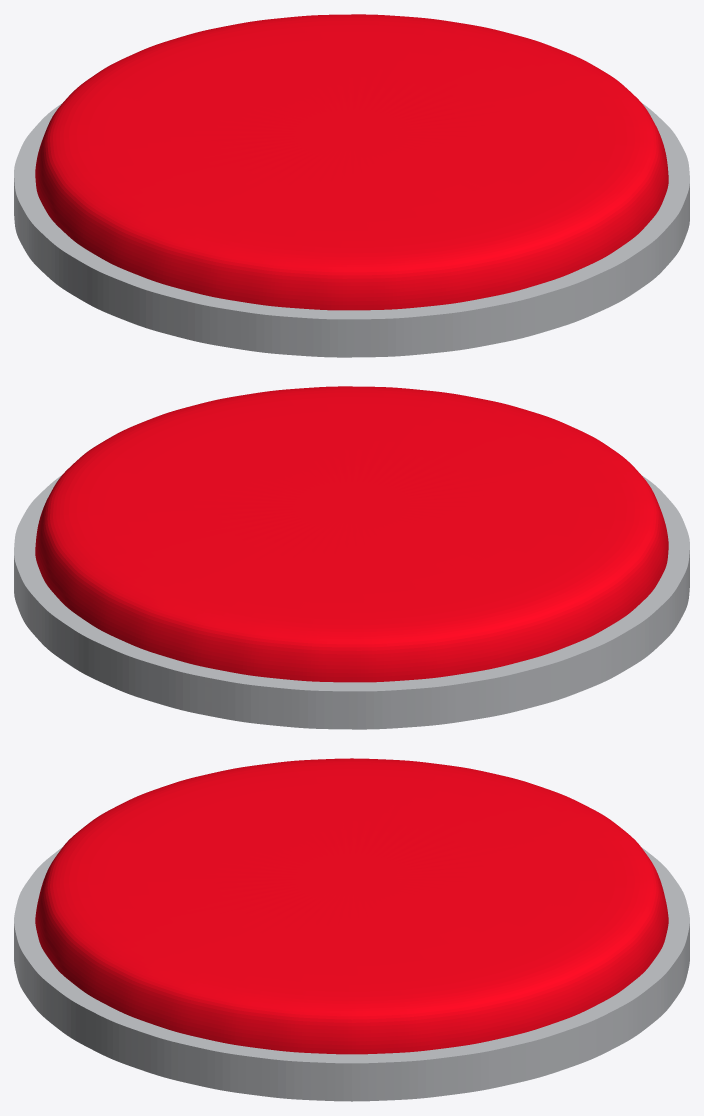
Rendered from Button.fbx.
The picture shows the model from 3 angles, top to bottom: view 1: azimuth 30°, elevation 25°; view 2: azimuth 150°, elevation 25°; view 3: azimuth 270°, elevation 25°; orthographic projection.
Parts seen in each view (by area): view 1: Cylinder, Circle; view 2: Cylinder, Circle; view 3: Cylinder, Circle.
Boxes of the visible parts, box(x1,y1,x2,y2) form: Cylinder: box(35, 14, 668, 310); Circle: box(14, 103, 689, 357); Cylinder: box(35, 386, 668, 682); Circle: box(14, 475, 689, 729); Cylinder: box(35, 758, 668, 1054); Circle: box(14, 847, 689, 1101).
Bounding box in the file's own units: 199 × 26.3 × 199.
